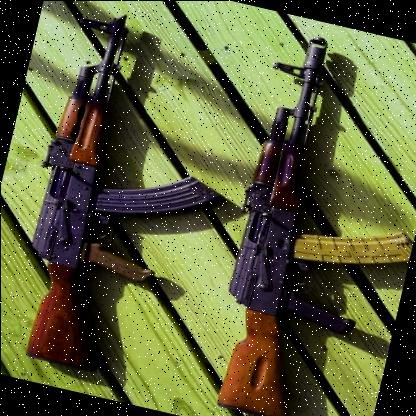rifle: (0, 0, 257, 395), (179, 24, 416, 416)
